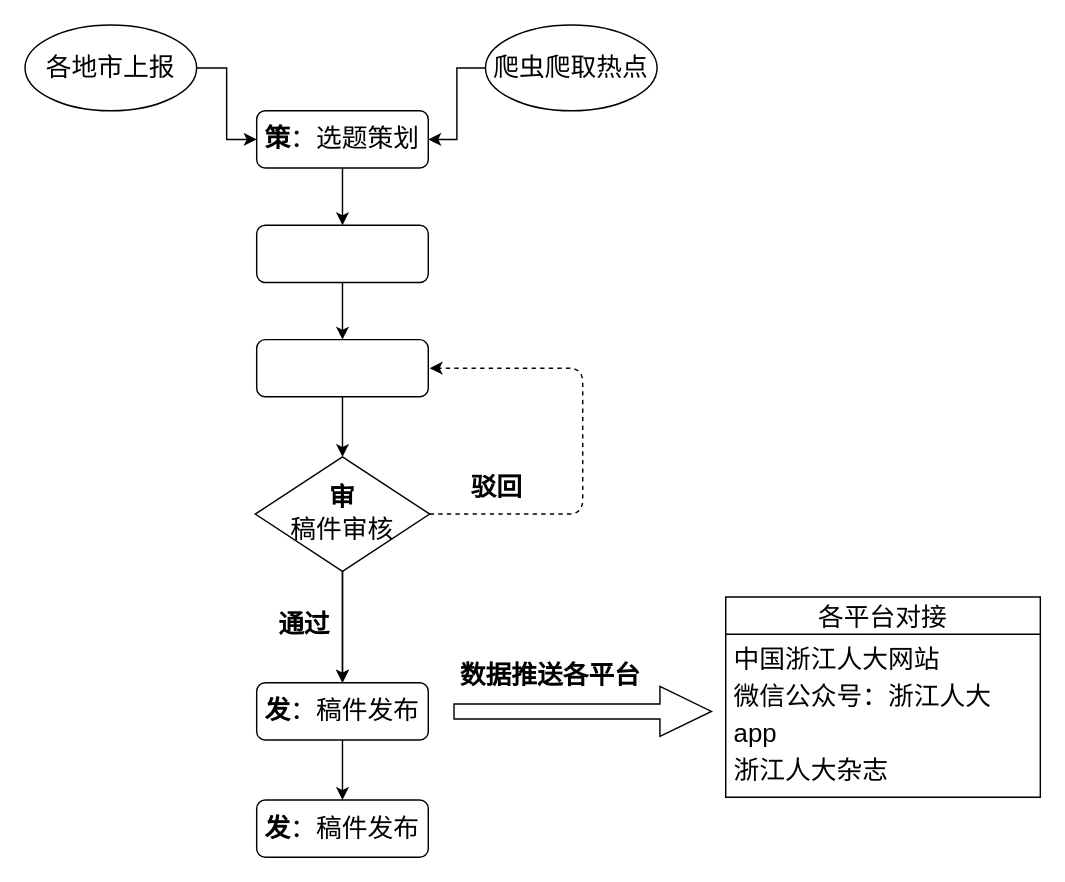
This 1065x882 diagram has some shape labels left out. The shapes that lost their labels are listed below. From the top down, each one's centre as x and y in pixels, then its label:
the point at 341,253: 采 ：素材采集
the point at 341,367: 编 ：稿件编辑
